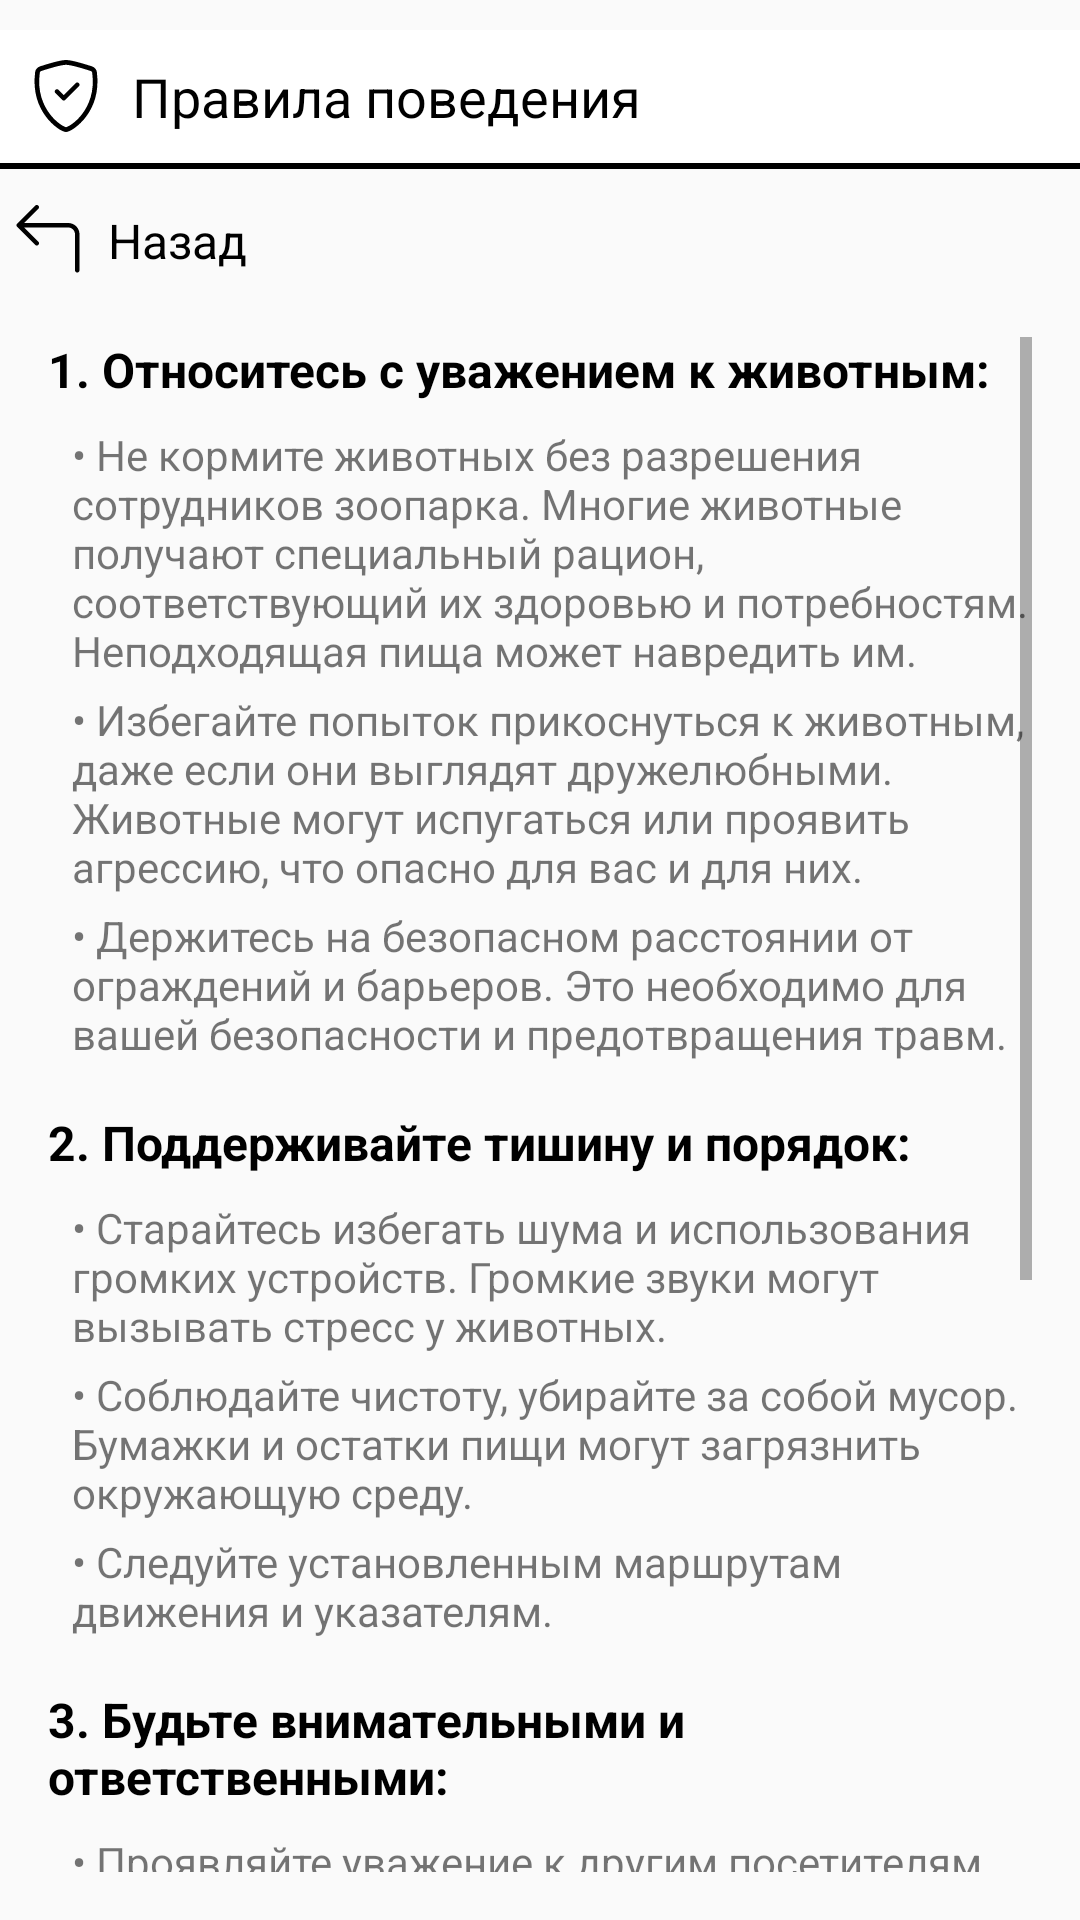

Locate icon controls on the screen. Image size 1080px x 1920px, boxes as (x1=x1, y1=y1, x2=x2, y2=y2).
arrow back: (x1=16, y1=205, x2=80, y2=273)
rules: (x1=34, y1=60, x2=98, y2=132)
